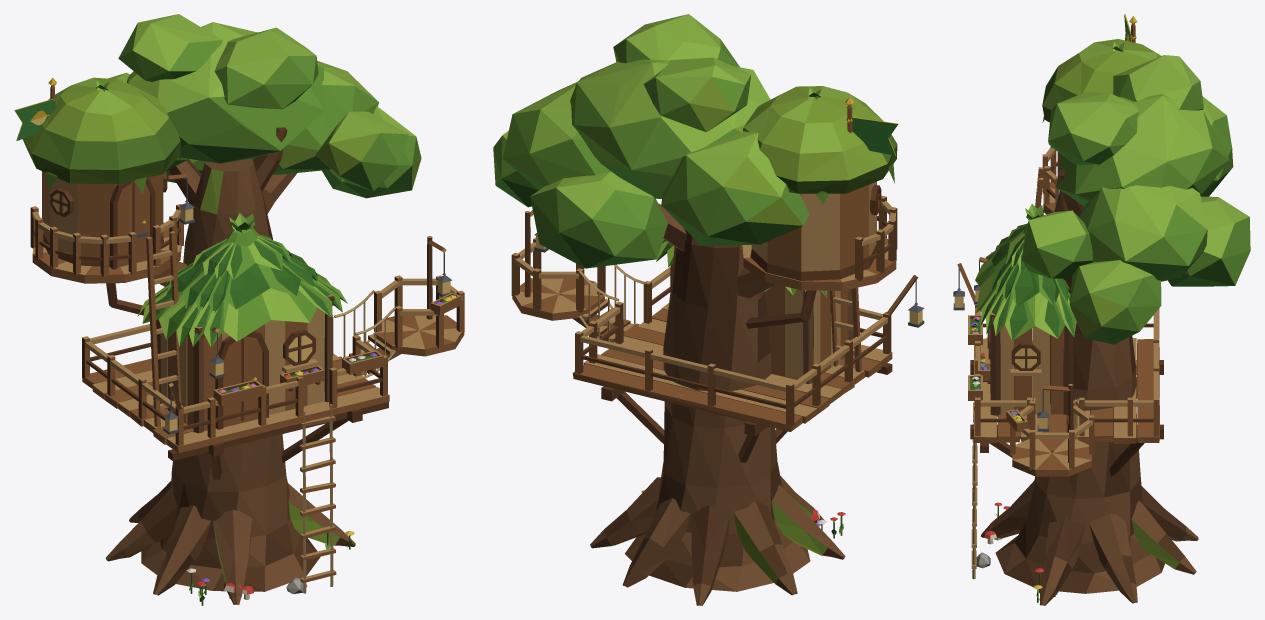
File: home_tree_4.glb
3 views of the same model, side by side, from view 1: azimuth 30°, elevation 25°; view 2: azimuth 150°, elevation 25°; view 3: azimuth 270°, elevation 25° (orthographic). The views are drawn at different scales.
Visible parts, largest first — view 1: home_tree_4, glow, banner; view 2: home_tree_4, banner; view 3: home_tree_4, glow.
Boxes of the visible parts, x1=… form: home_tree_4: x1=22, y1=14, x2=464, y2=605; glow: x1=52, y1=193, x2=450, y2=431; banner: x1=14, y1=98, x2=55, y2=140; home_tree_4: x1=493, y1=14, x2=924, y2=605; banner: x1=846, y1=117, x2=898, y2=155; home_tree_4: x1=953, y1=16, x2=1250, y2=605; glow: x1=954, y1=190, x2=1059, y2=428.
Bounding box in the file's own units: 5.96 × 7.2 × 3.99.
